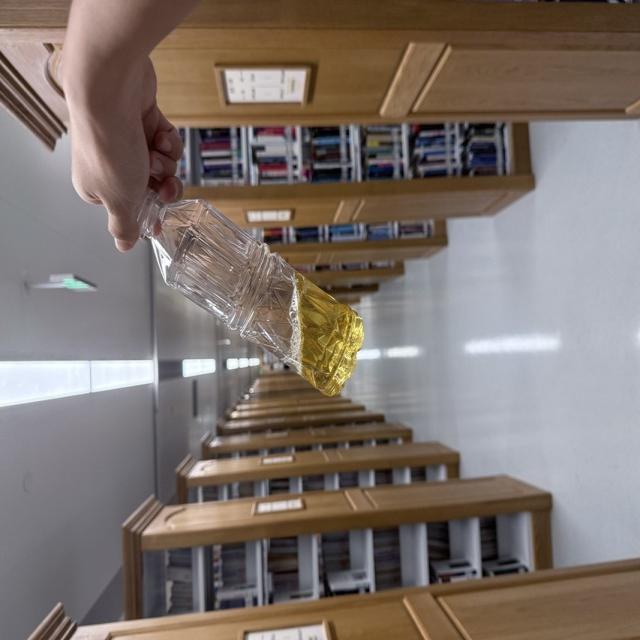low: (137, 188, 363, 394)
